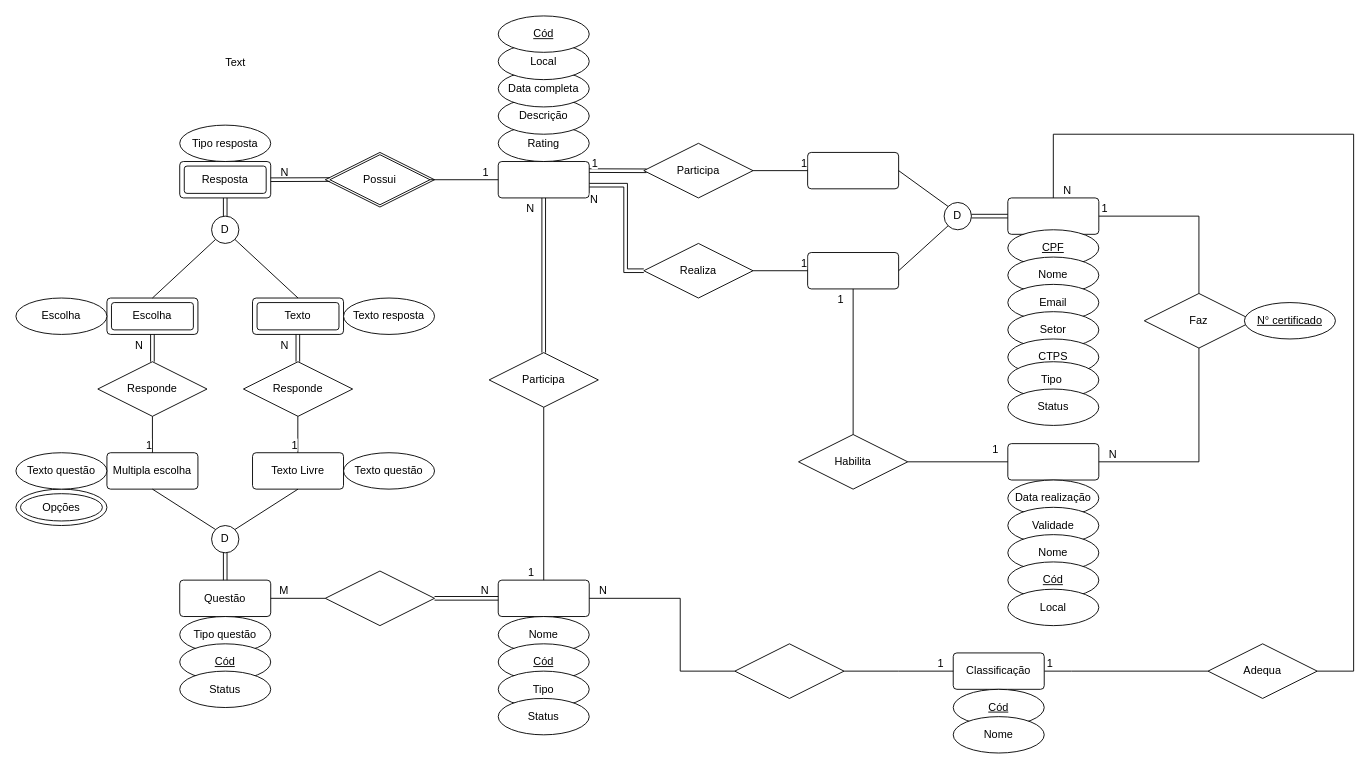
The diagram is 1370 pixels wide and 769 high, and some of its shapes have lost their labels. The shapes that lost their labels are listed below. From the top down, each one's centre as x and y in pixels, then its label:
At point (543, 179): "Avaliação".
At point (853, 170): "Avaliado".
At point (1053, 215): "Funcionário".
At point (853, 270): "Avaliador".
At point (1053, 461): "Treinamento".
At point (379, 598): "Compõe".
At point (543, 598): "Questionário".
At point (789, 670): "Classifica".
